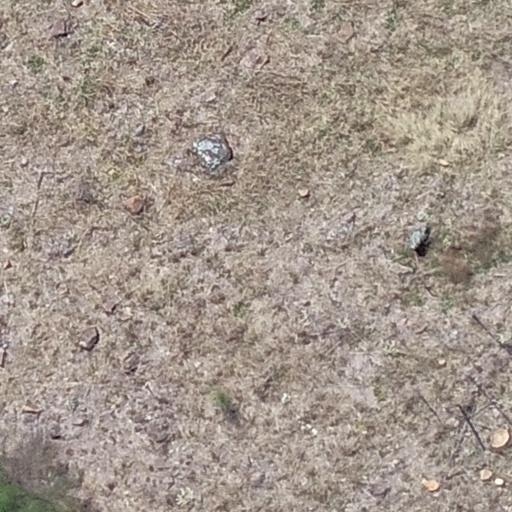stone: (48, 18, 72, 40), (489, 428, 511, 450), (336, 20, 356, 44), (79, 328, 98, 352), (76, 183, 96, 204), (122, 351, 140, 373), (412, 226, 428, 249), (124, 195, 143, 213), (368, 483, 392, 497), (421, 477, 441, 493), (21, 405, 42, 415), (48, 420, 60, 437), (103, 302, 118, 314), (479, 468, 493, 480), (298, 188, 310, 198), (0, 347, 5, 367), (72, 0, 83, 7)
